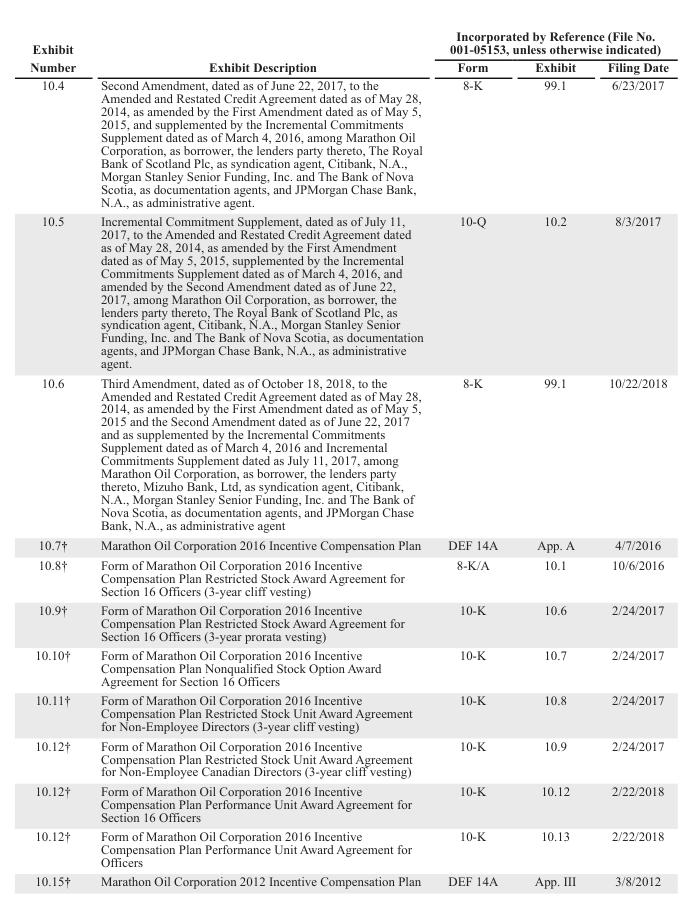table: (29, 28, 668, 888)
table column: (87, 28, 435, 888), (435, 28, 515, 888), (591, 28, 668, 888), (515, 28, 591, 888), (29, 28, 87, 888)
table column header: (29, 28, 668, 75)
table row: (29, 372, 668, 534), (29, 211, 668, 372), (29, 75, 668, 211), (29, 599, 668, 645), (29, 780, 668, 826), (29, 554, 668, 599), (29, 645, 668, 690), (29, 690, 668, 735), (29, 735, 668, 780), (29, 826, 668, 871), (29, 28, 668, 57), (29, 534, 668, 554), (29, 57, 668, 75), (29, 871, 668, 888)
table spanning cell: (87, 28, 435, 75), (435, 28, 668, 57), (29, 28, 87, 75)
